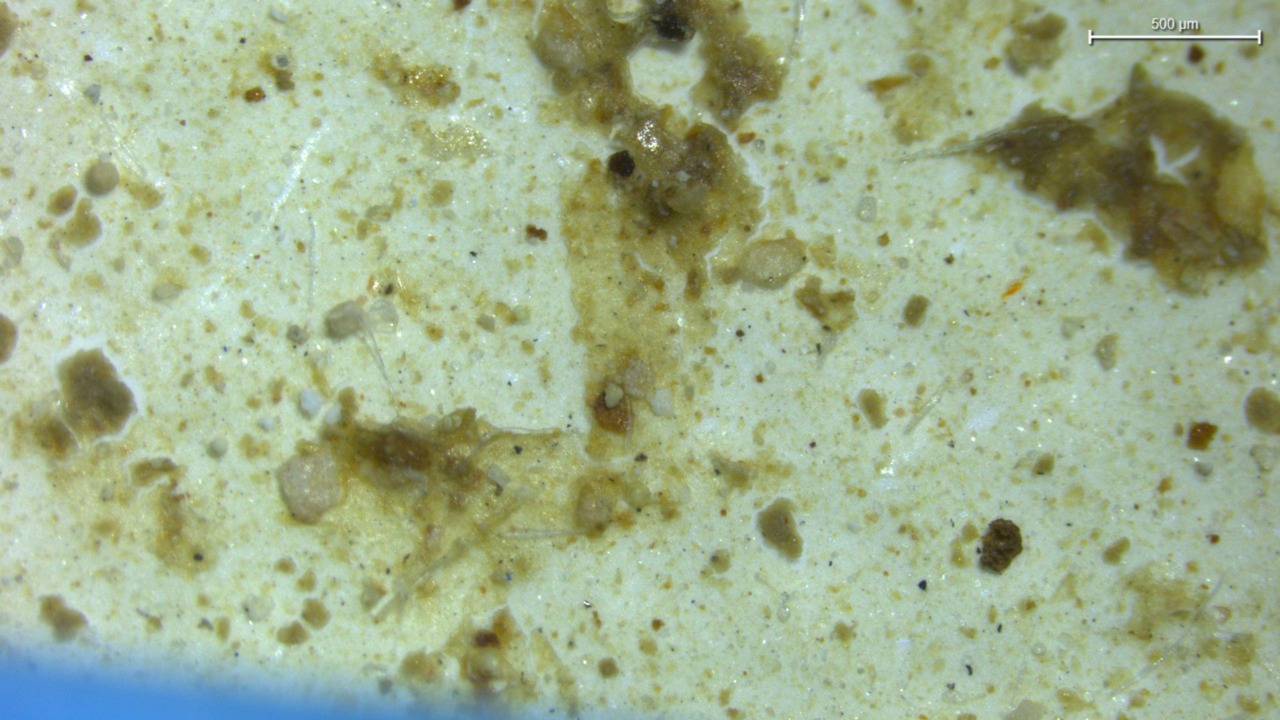microplastic_fragment: (277, 448, 343, 523), (739, 238, 805, 288), (324, 301, 366, 339), (649, 389, 673, 416), (300, 389, 322, 418)
